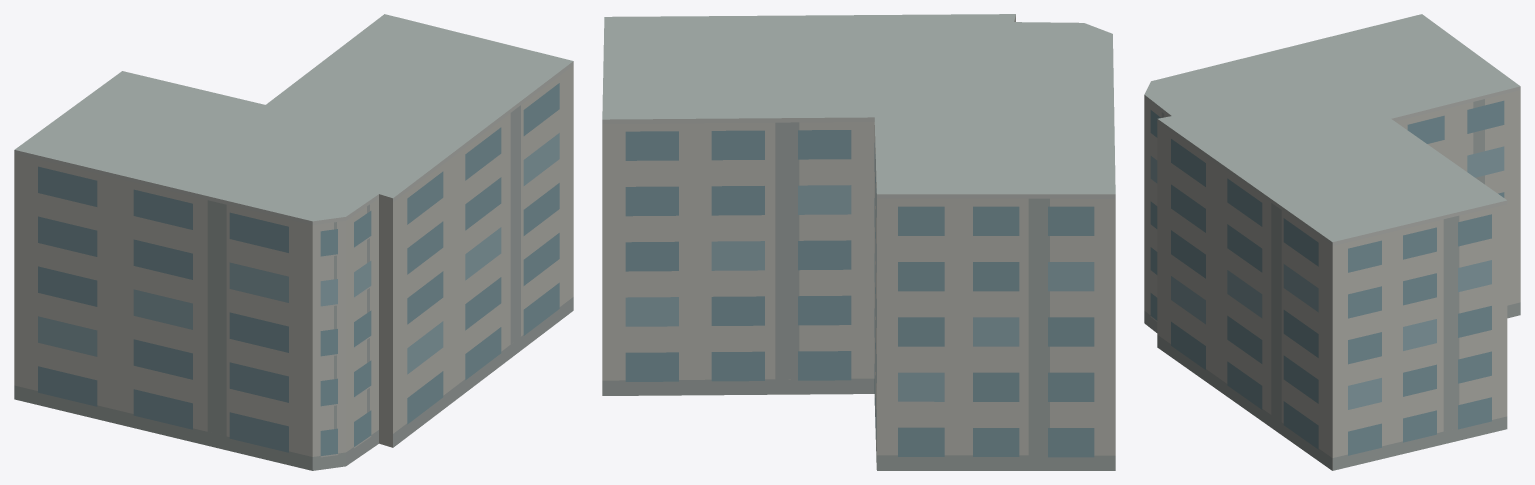
The model's file is survey-upis-32918673.glb.
3 views of the same model, side by side, from view 1: azimuth 30°, elevation 25°; view 2: azimuth 150°, elevation 25°; view 3: azimuth 270°, elevation 25° (orthographic). The views are drawn at different scales.
Visible parts, largest first — view 1: survey-upis-32918673.tmp; view 2: survey-upis-32918673.tmp; view 3: survey-upis-32918673.tmp.
Part boxes in pixels (x1,y1,x2,y2): survey-upis-32918673.tmp: (14,14,573,470); survey-upis-32918673.tmp: (602,14,1115,470); survey-upis-32918673.tmp: (1144,14,1520,470).
Size of the model in its own units: 32.64 by 15.25 by 22.75.
